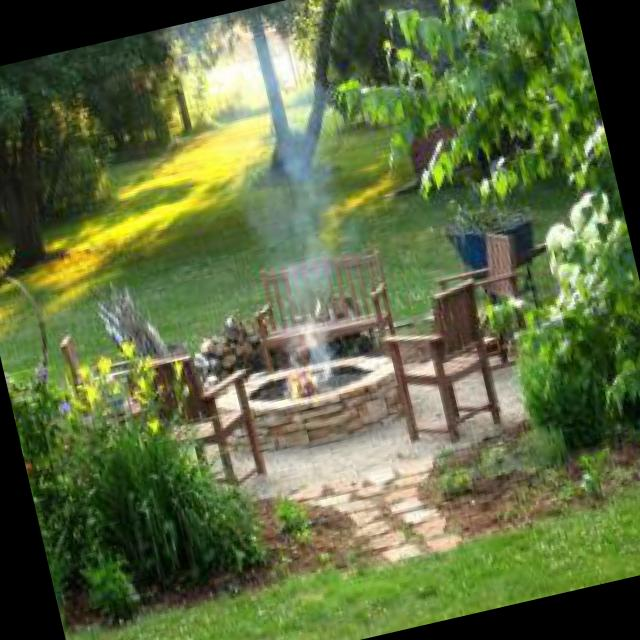fire: (272, 342, 334, 408)
smoke: (202, 0, 374, 357)
